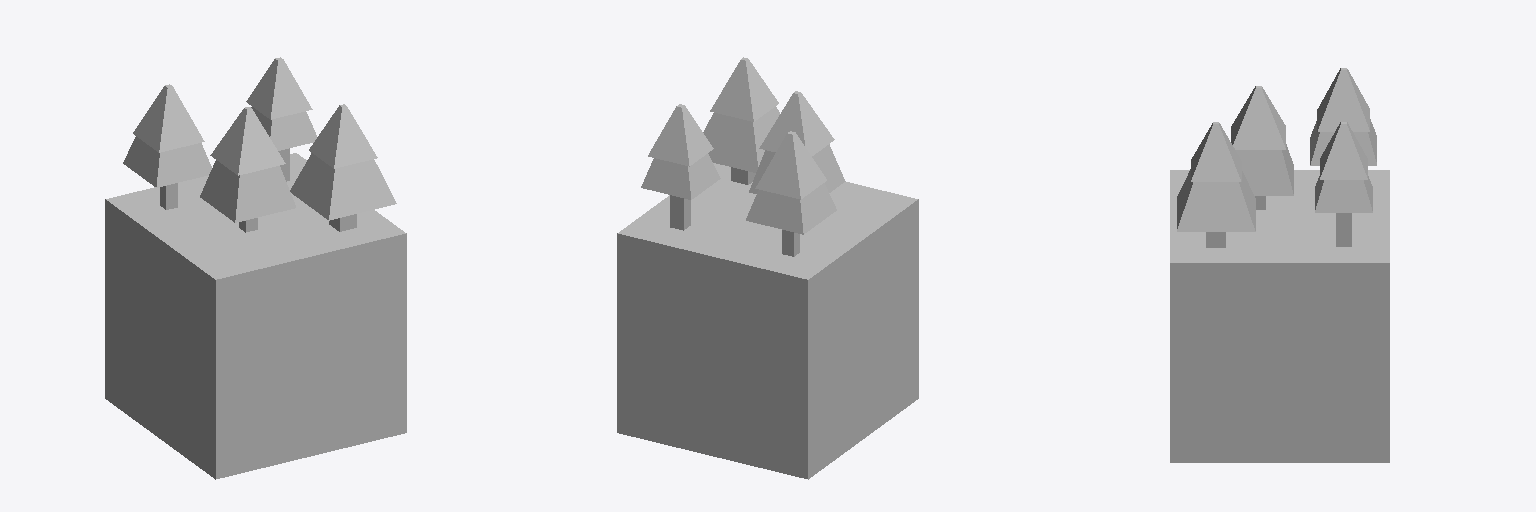
File: TreeTile.obj
3 renders of one model, left to right at view 1: azimuth 30°, elevation 25°; view 2: azimuth 150°, elevation 25°; view 3: azimuth 270°, elevation 25°, orthographic.
Visible parts, largest first — view 1: Cube_Cube.002; view 2: Cube_Cube.002; view 3: Cube_Cube.002.
Part boxes in pixels (x1,y1,x2,y2): Cube_Cube.002: (105,57,406,479); Cube_Cube.002: (617,57,918,479); Cube_Cube.002: (1170,68,1389,462).
Size of the model in its own units: 2 by 3.21 by 2.